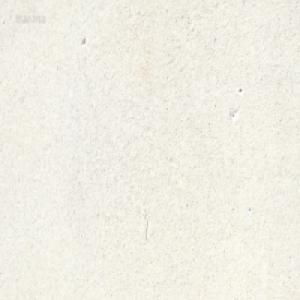Wrench: (152, 0, 158, 4)
